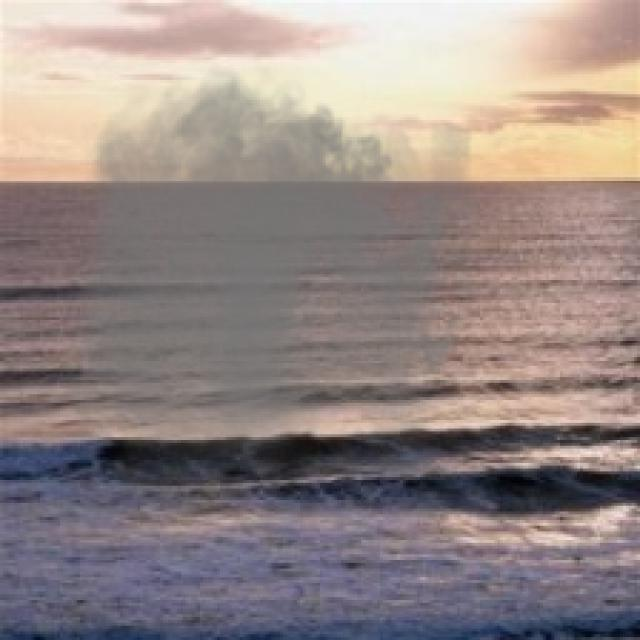Smoke: (69, 54, 472, 472)
